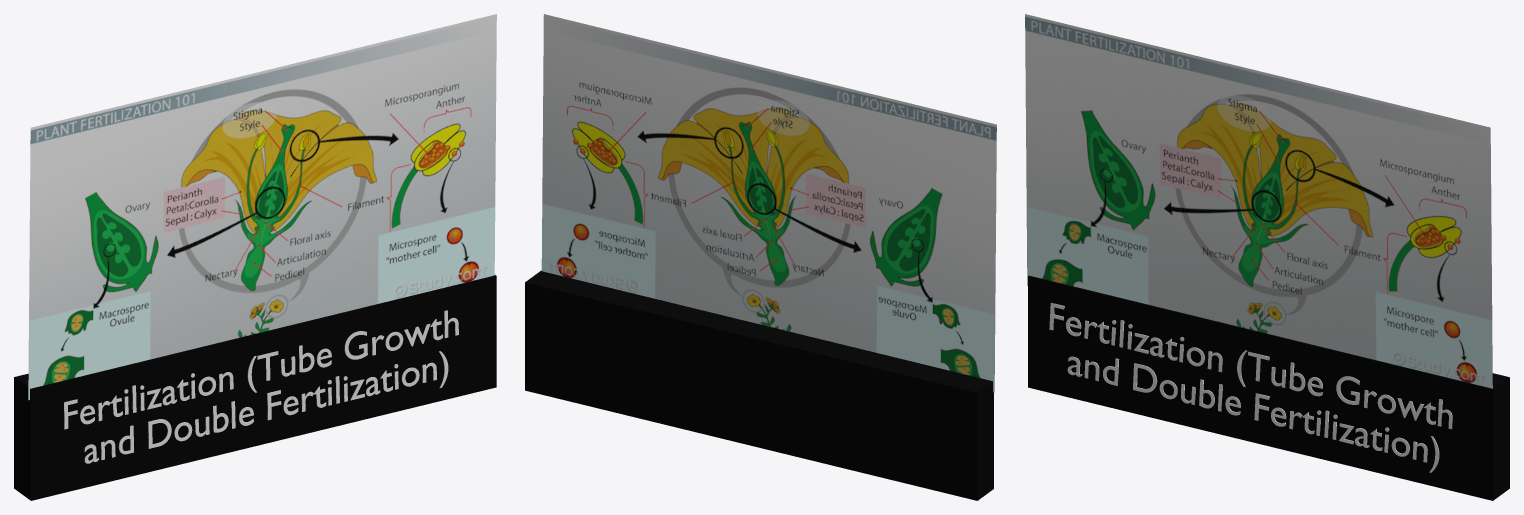
Rendered from fertilization.gltf.
3 views of the same model, side by side, from view 1: azimuth 30°, elevation 25°; view 2: azimuth 150°, elevation 25°; view 3: azimuth 330°, elevation 25° (orthographic). The views are drawn at different scales.
Parts seen in each view (by area): view 1: fertilization, Cube.003, Text.001; view 2: fertilization, Cube.003; view 3: fertilization, Cube.003, Text.001.
Boxes of the visible parts, x1,y1,x2,y2 form: fertilization: (28, 14, 496, 400); Cube.003: (14, 275, 496, 500); Text.001: (64, 310, 458, 463); fertilization: (541, 14, 996, 392); Cube.003: (525, 270, 993, 500); fertilization: (1025, 14, 1492, 388); Cube.003: (1028, 275, 1509, 500); Text.001: (1049, 302, 1452, 472).
Size of the model in its own units: 3.35 by 2.57 by 0.3011.
Materials: 2 (1 with a texture image).
